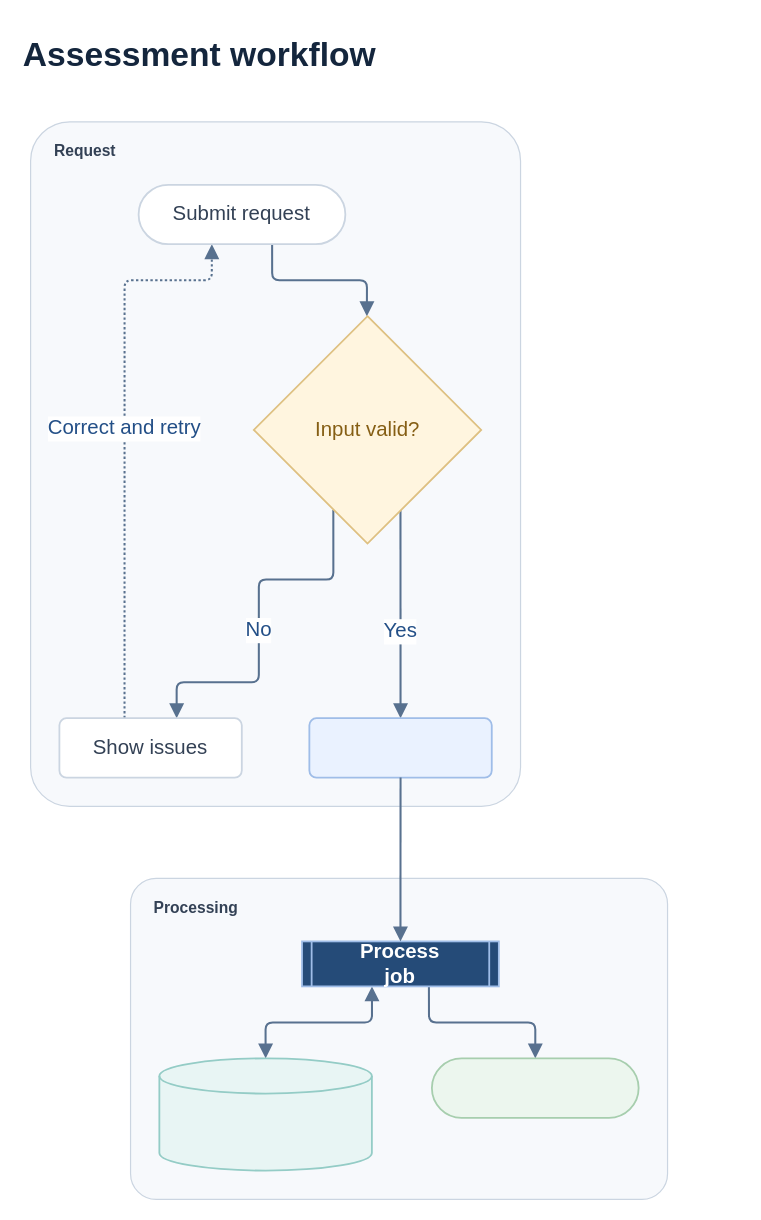
Some shapes in this 761 by 1220 pixel diagram are drawn without their labels. The shapes that lost their labels are listed below. From the top down, each one's centre as x and y in pixels, then its label:
At pixel 400 747: "Queue job".
At pixel 534 1087: "Report ready".
At pixel 265 1114: "Reference database".
